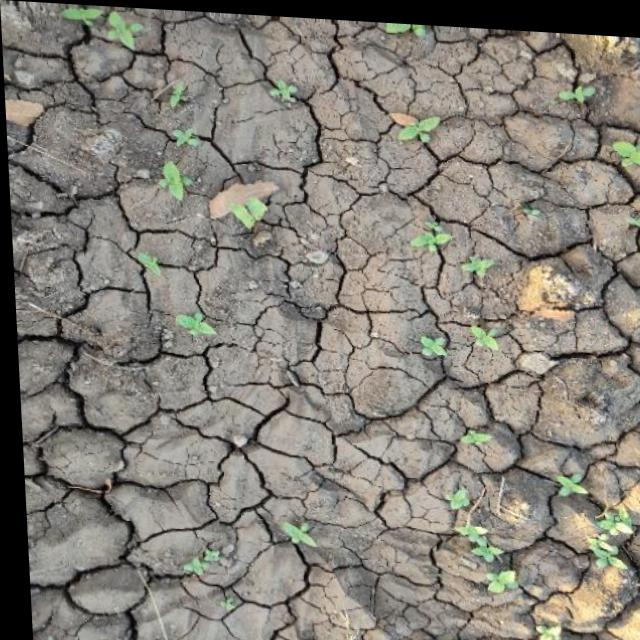crop: (440, 482, 518, 598), (555, 470, 637, 566), (409, 207, 493, 285), (44, 3, 162, 58), (127, 117, 196, 201), (415, 304, 502, 367), (377, 97, 444, 145), (166, 307, 217, 340), (275, 512, 317, 548)
